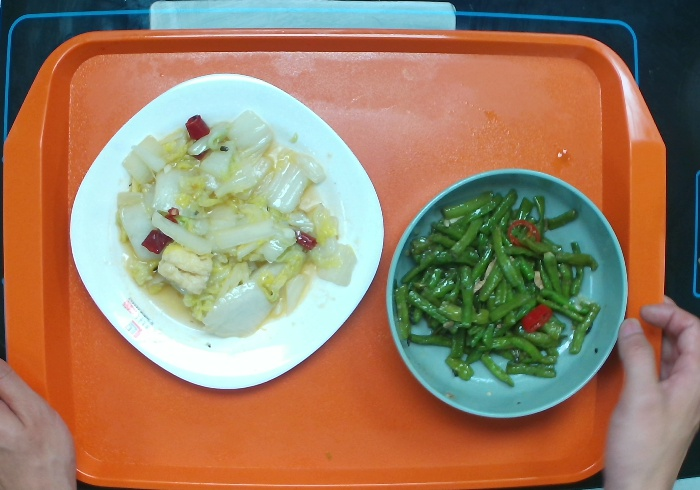ZNLD-Qing_Hua_Yuan_Wan: (385, 165, 631, 420)
ZNLD-Yuan_Jiao_Pan: (69, 71, 386, 388)
